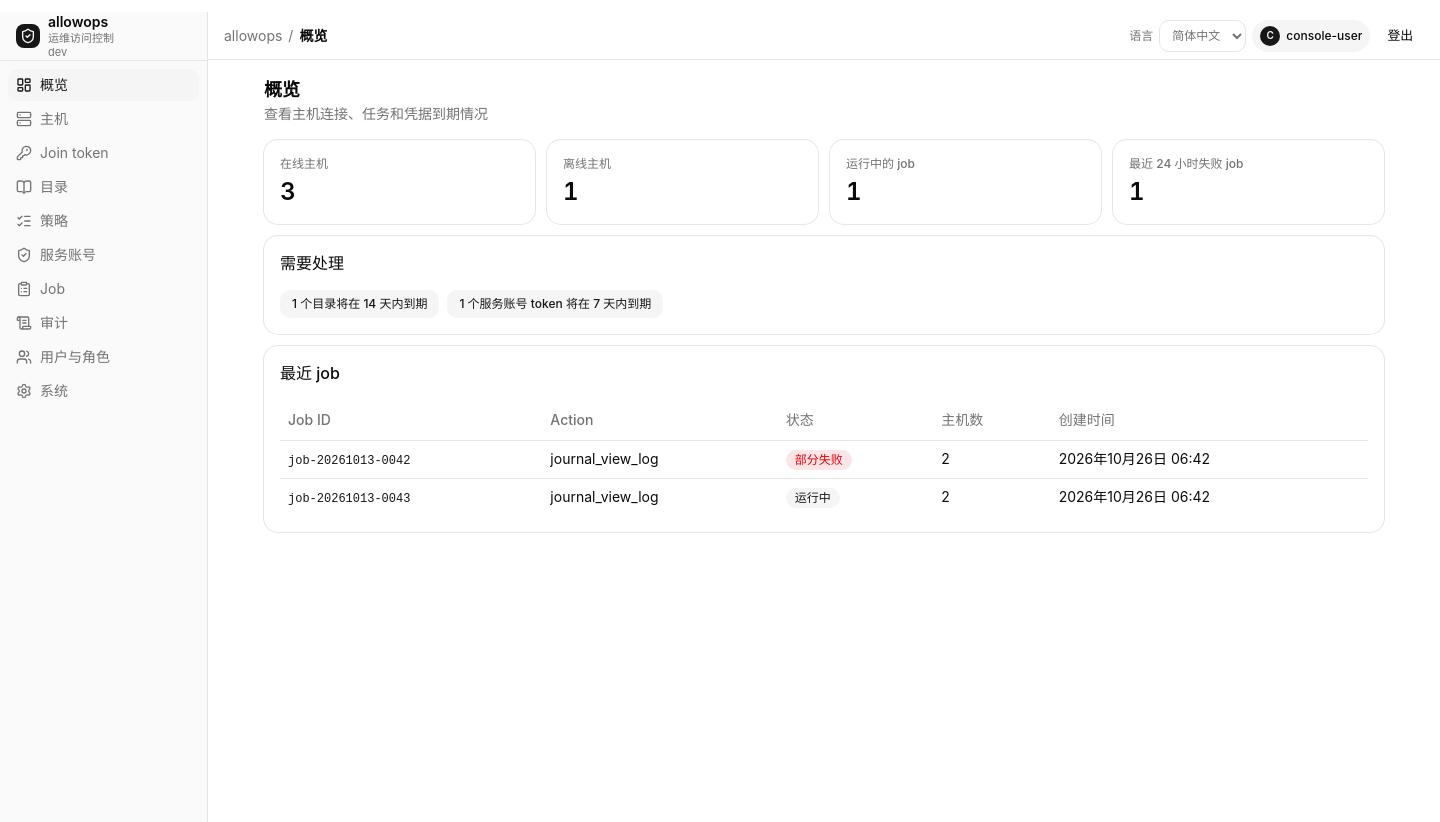
Test: console pages › opens recent jobs from overview
Expected: the heading "概览" is shown, [264,79,300,100]
Expected: the text "在线主机" is shown, [280,156,328,171]
Click the link "job-20261013-0042" at [349, 458], box [288,450,410,467]
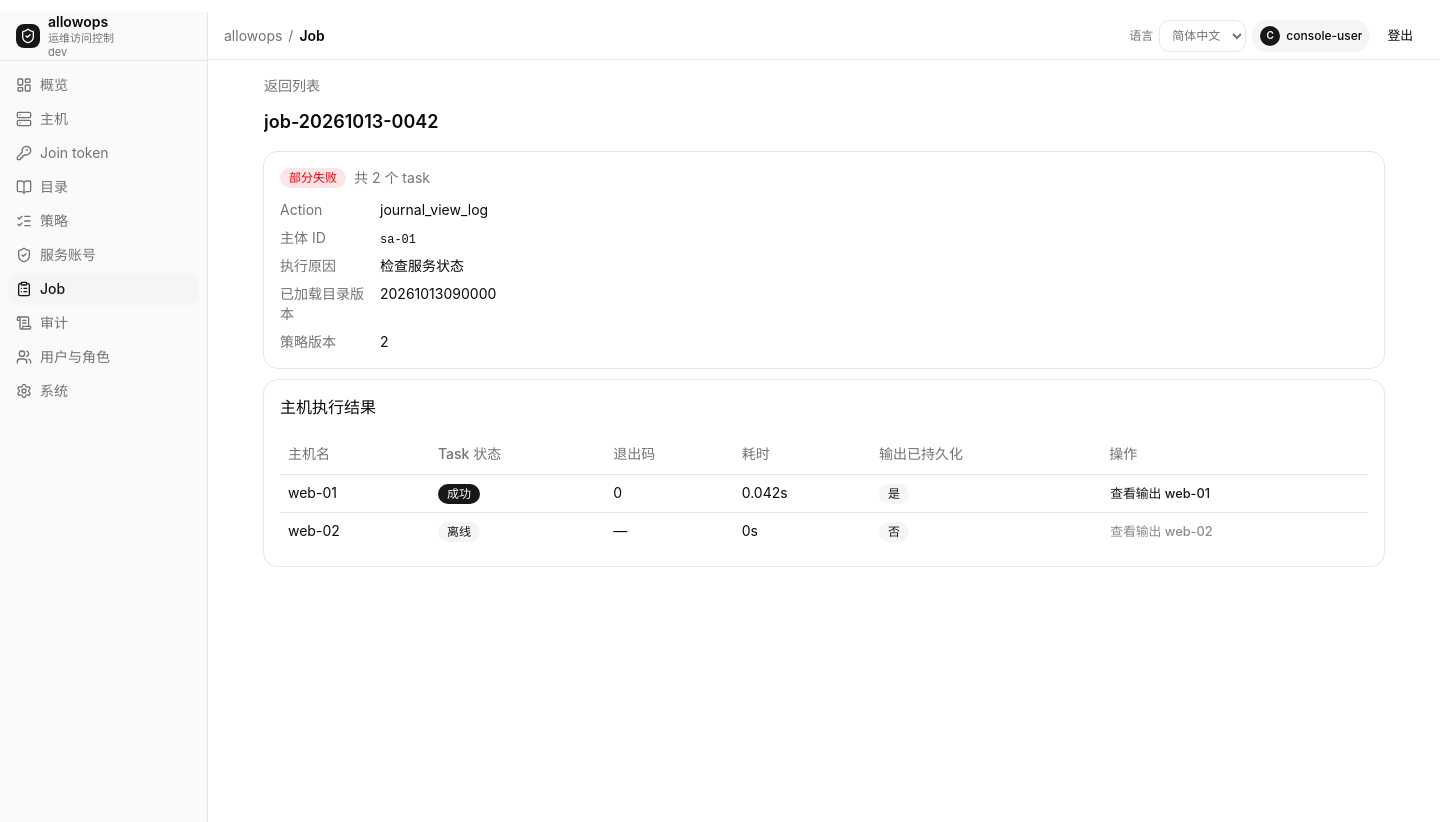
Expected: the heading "job-20261013-0042" is shown, [264,111,438,132]
